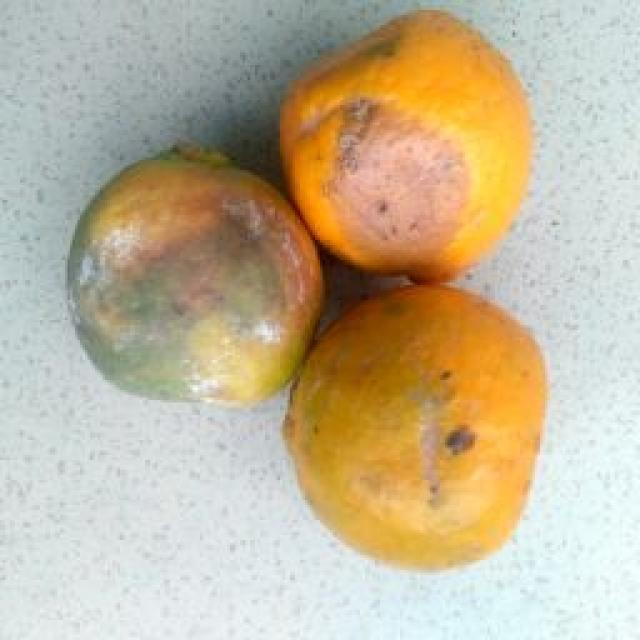Bad_Orange: (280, 11, 532, 281), (68, 160, 322, 403)
